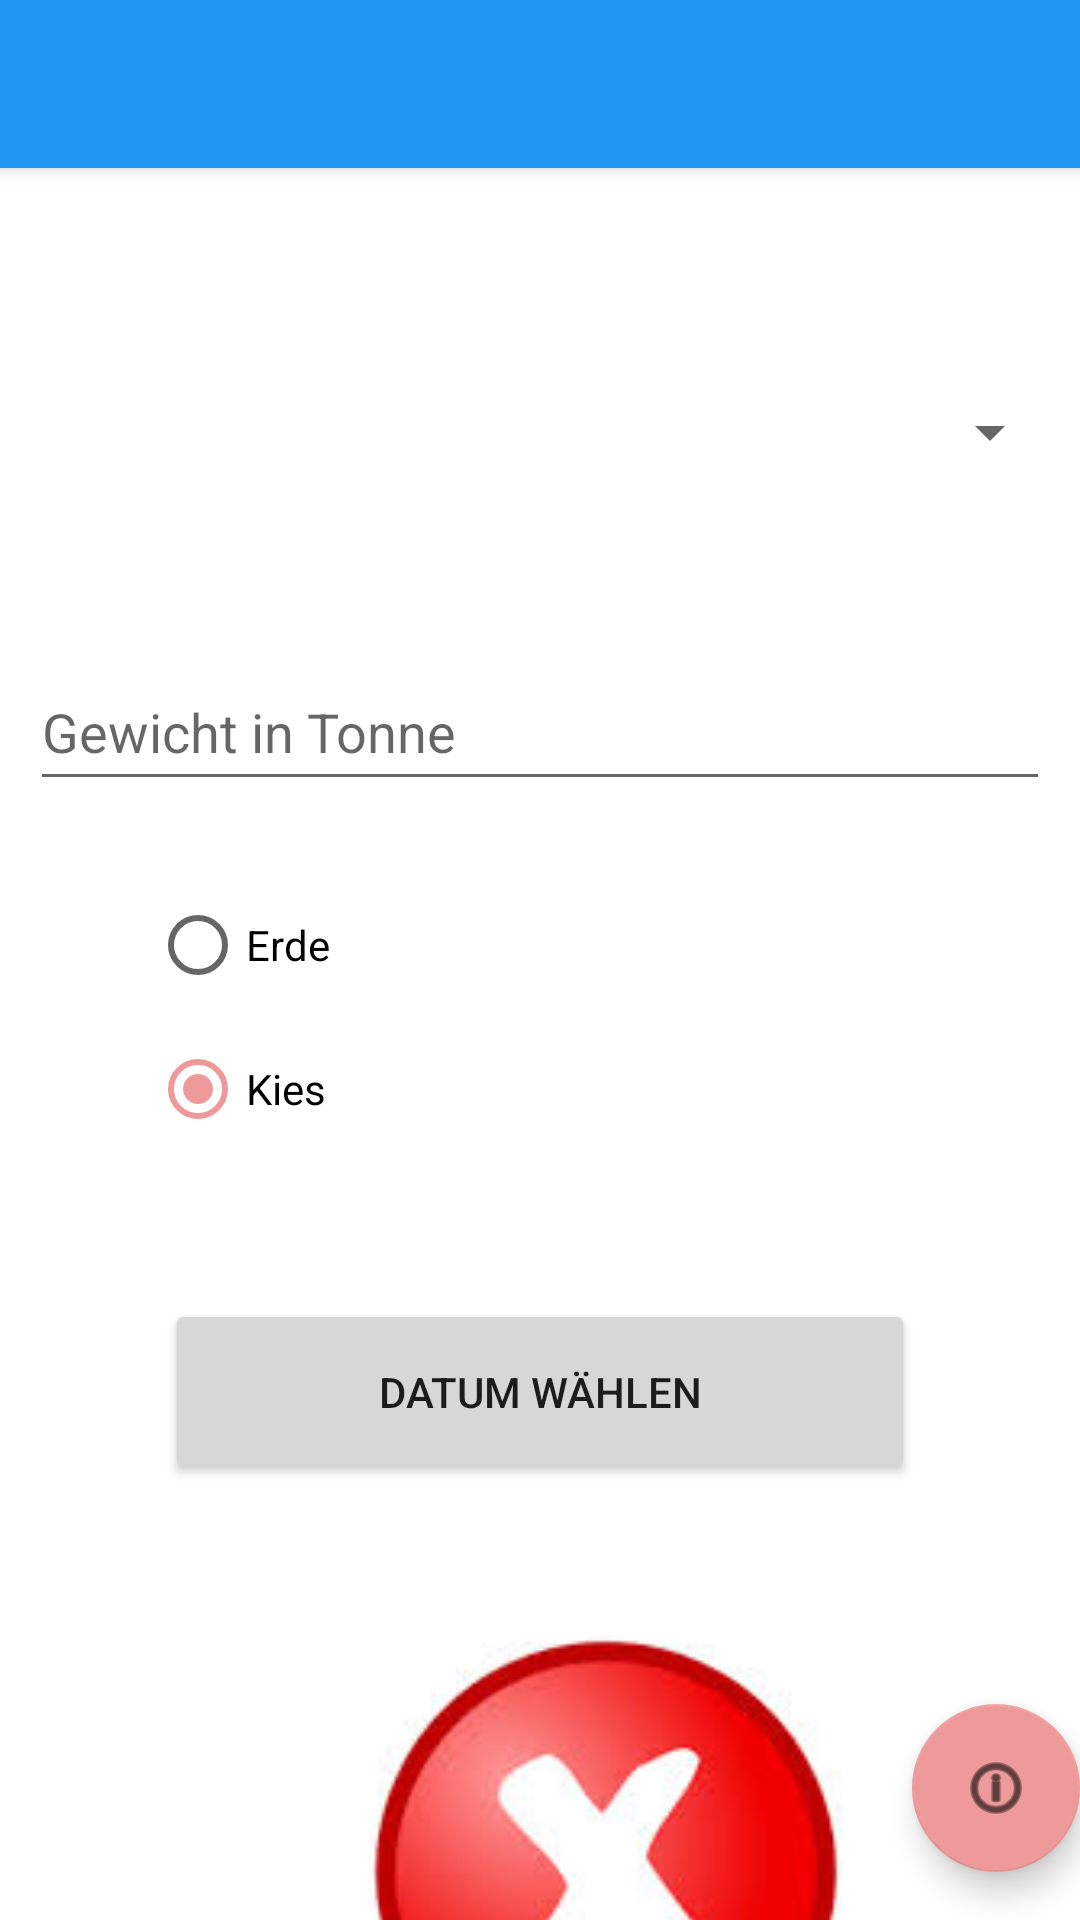

Named icons in this screenshot (1080×1920) and their centers, point (x, y):
info details: point (996, 1788)
